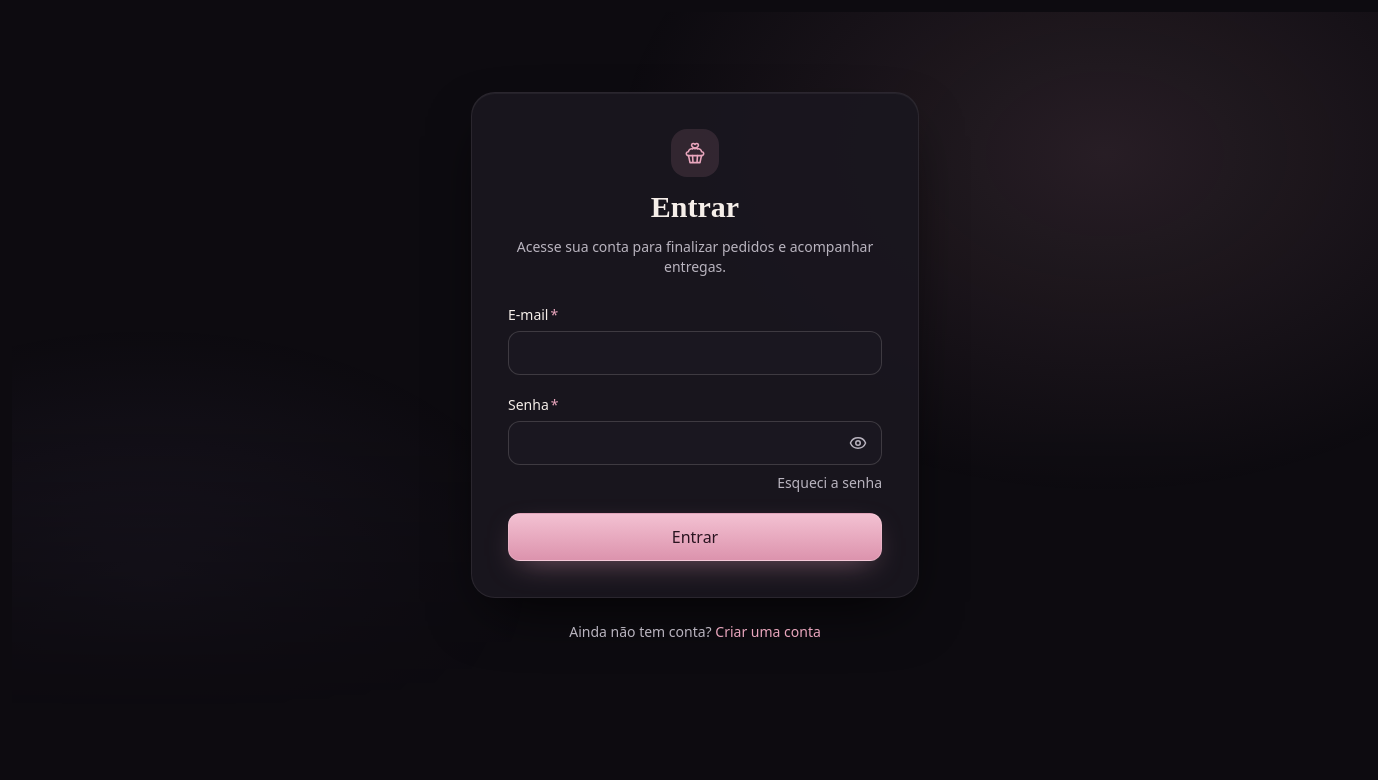
LoginPage › volta para o destino solicitado após o login
Type "maria@example.com" into the field labelled "E-mail*".
click(695, 353); type("maria@example.com")  # box 508,331 -> 882,375
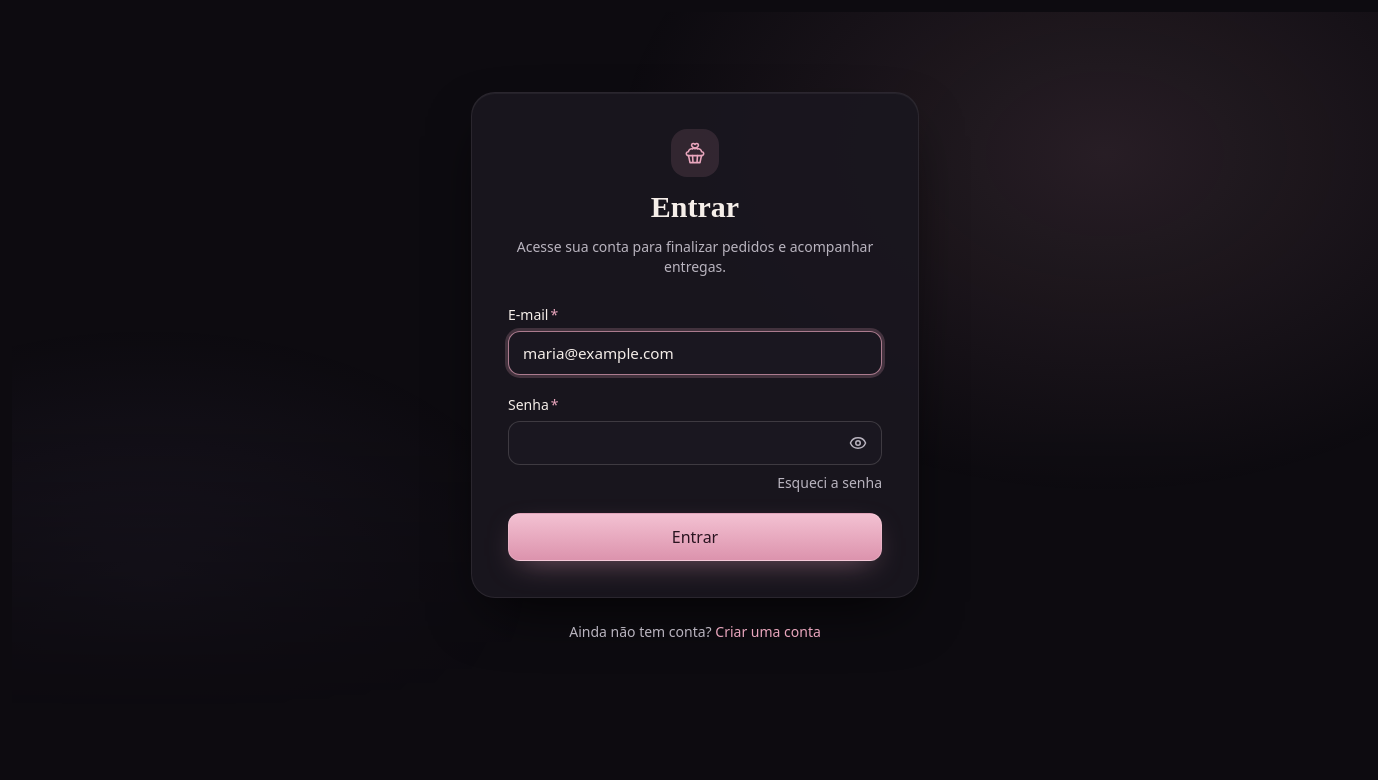
Type "cupcake2026" into the password field labelled "Senha*".
click(695, 443); type("cupcake2026")  # box 508,421 -> 882,465
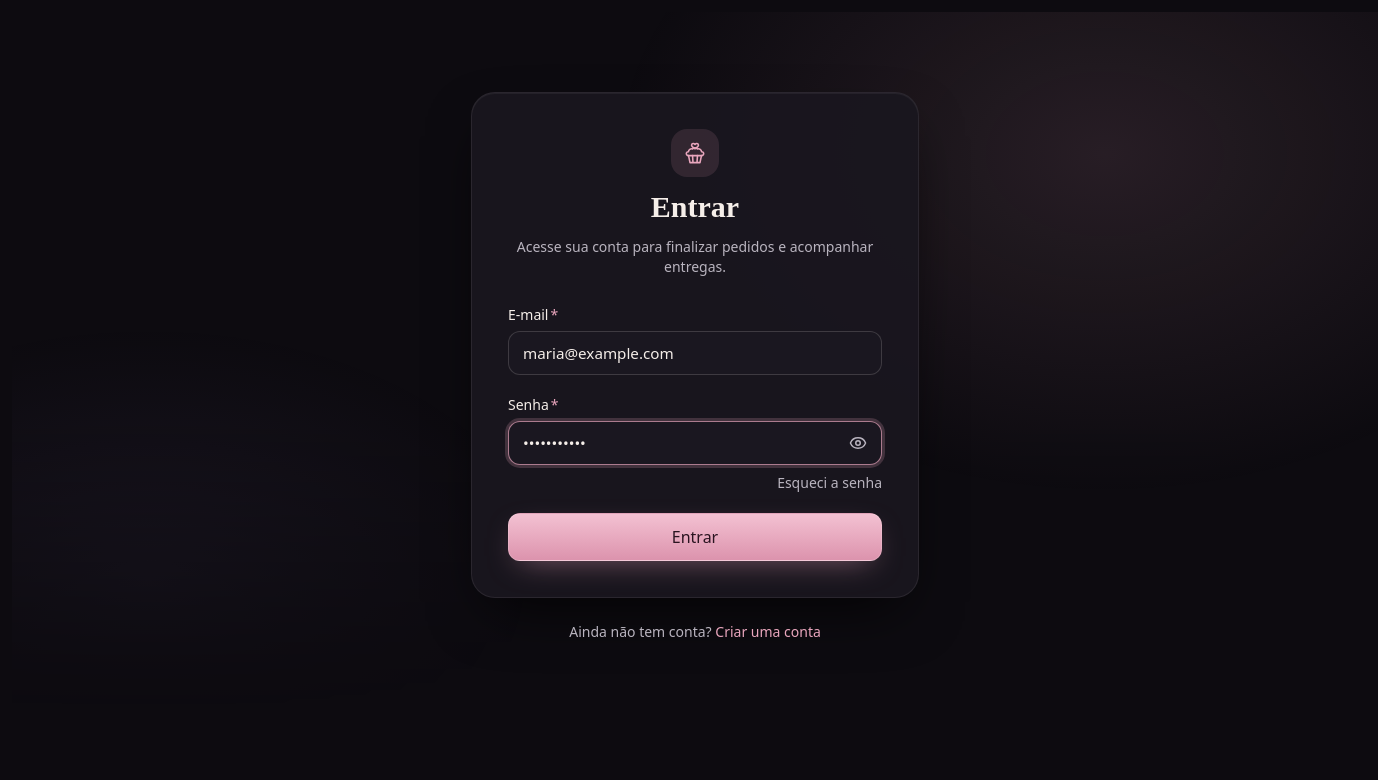
Click the button "Entrar".
click(695, 537)  # box 508,513 -> 882,561
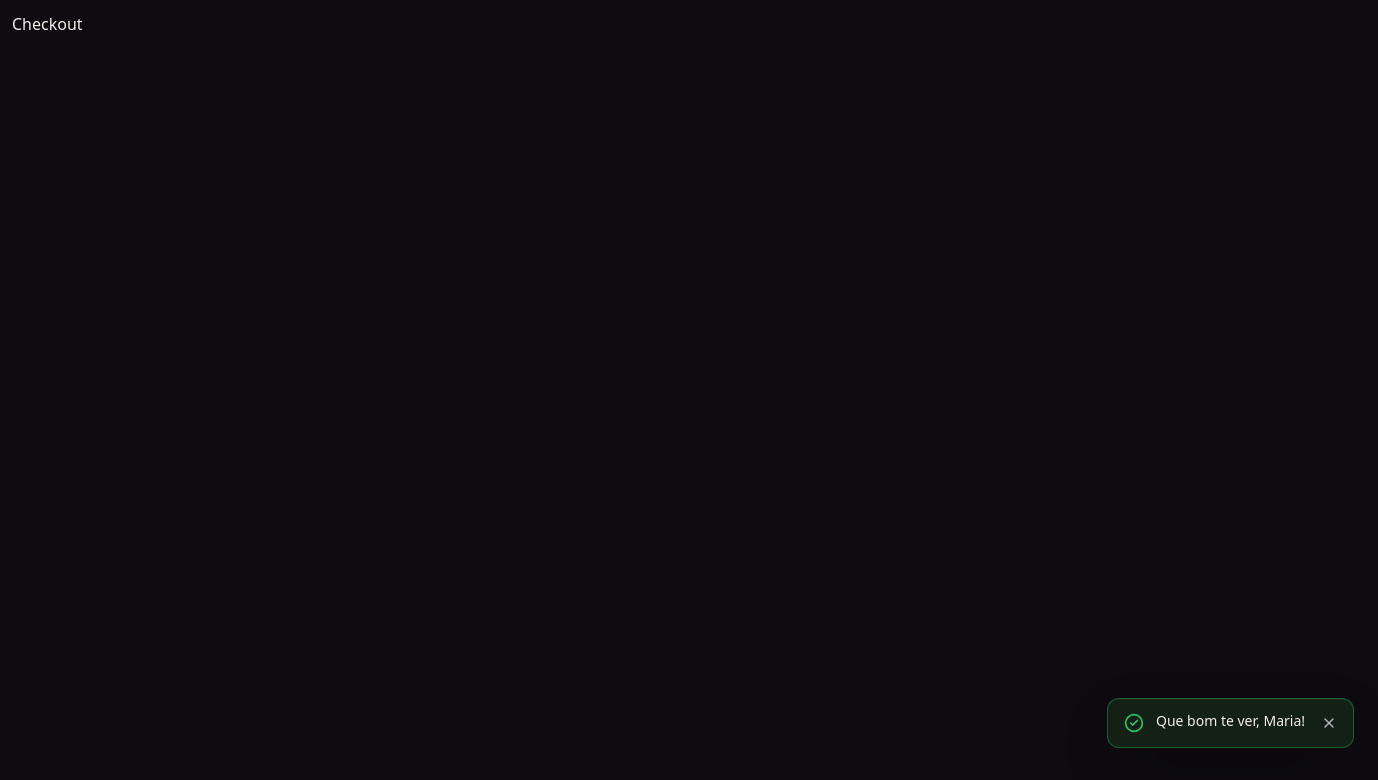
Expected: the heading "Checkout" is shown, 12,13 -> 83,35
